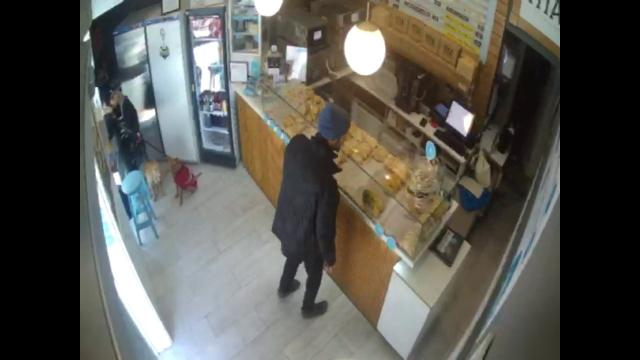cliente: (272, 103, 348, 318), (101, 86, 146, 172)
